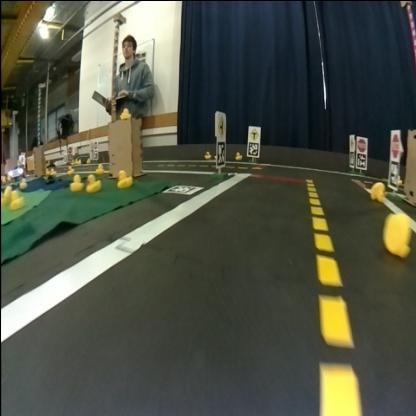Duckie: (384, 210, 410, 254), (116, 168, 132, 186), (370, 181, 385, 200), (86, 172, 101, 190), (9, 190, 23, 209), (70, 172, 84, 188), (119, 106, 130, 118), (236, 151, 242, 159)
Intersection sign: (216, 115, 224, 135), (249, 126, 260, 138)
QR code: (164, 184, 204, 194), (217, 138, 225, 164), (247, 141, 259, 155)
Stop sign: (390, 132, 399, 154)
